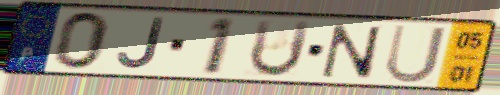0: (49, 11, 117, 72)
1: (204, 15, 236, 78)
J: (115, 16, 168, 71)
N: (319, 22, 384, 81)
U: (382, 22, 450, 85), (246, 18, 315, 80)
